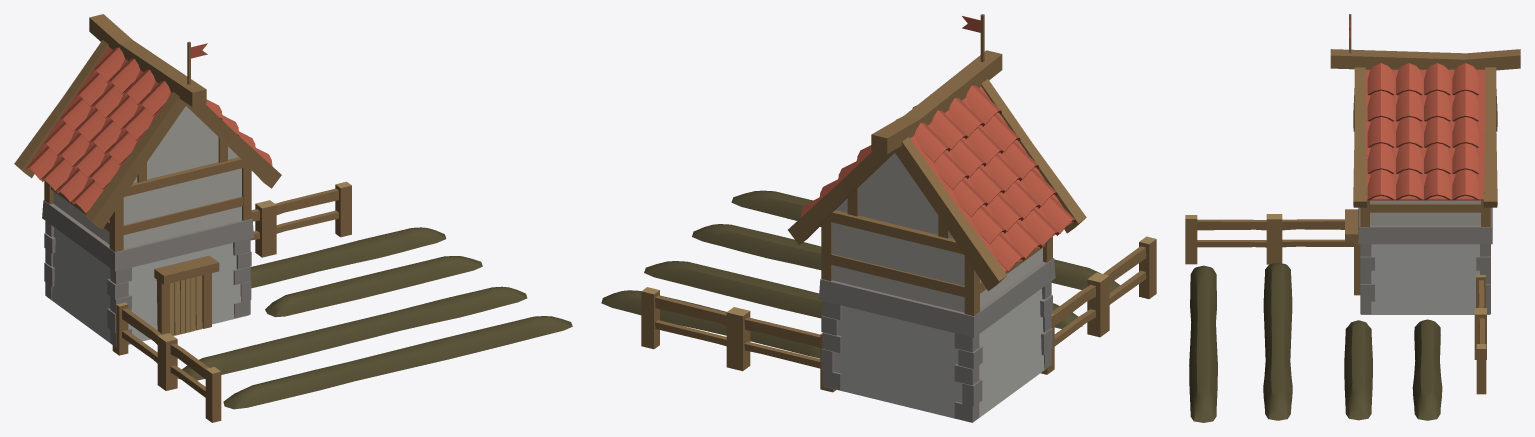
The model's file is Farm_SecondAge_Level2.glb.
3 views of the same model, side by side, from view 1: azimuth 30°, elevation 25°; view 2: azimuth 150°, elevation 25°; view 3: azimuth 270°, elevation 25° (orthographic). The views are drawn at different scales.
Visible parts, largest first — view 1: Farm_SecondAge_Level2; view 2: Farm_SecondAge_Level2; view 3: Farm_SecondAge_Level2.
Part boxes in pixels (x1=…): Farm_SecondAge_Level2: x1=14, y1=14, x2=572, y2=422; Farm_SecondAge_Level2: x1=601, y1=14, x2=1156, y2=422; Farm_SecondAge_Level2: x1=1185, y1=14, x2=1520, y2=422.
Bounding box in the file's own units: 1.83 × 1.31 × 1.45.
1 material, 1 textured.
